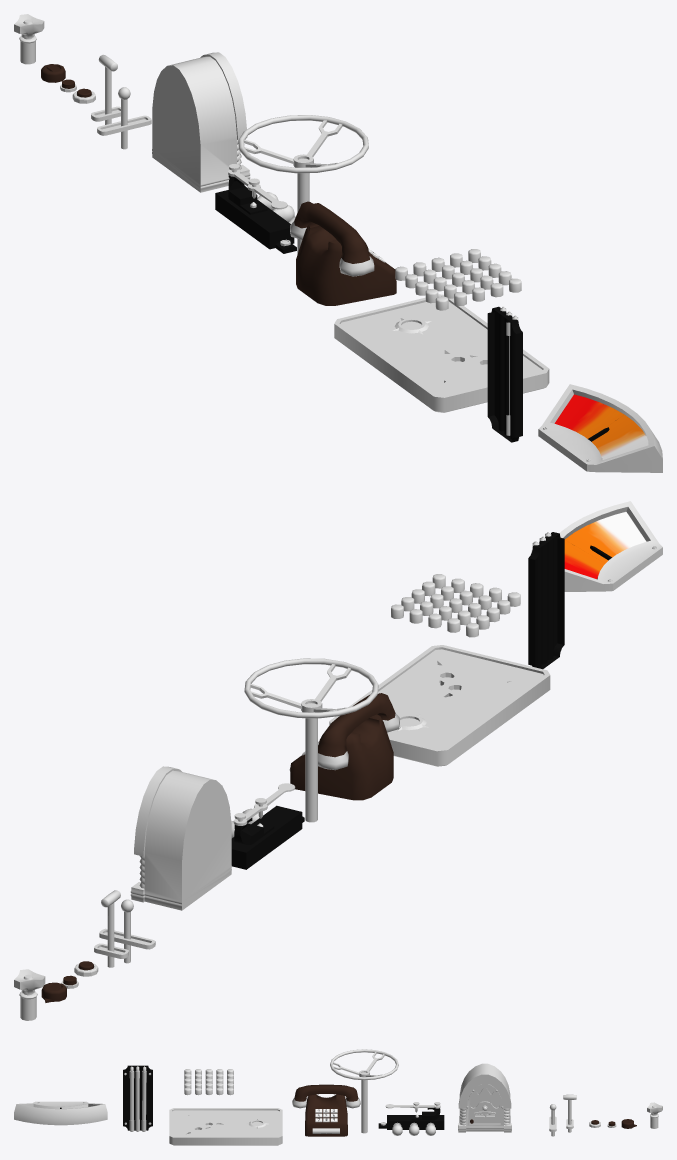
The model's file is cudliky_paky.fbx.
3 views of the same model, one above another, from view 1: azimuth 30°, elevation 25°; view 2: azimuth 150°, elevation 25°; view 3: azimuth 270°, elevation 25° (orthographic). The views are drawn at different scales.
Parts seen in each view (by area): view 1: Lmap, RadioSubstance, Plane.001, zkumavky, Tlakometr, morseovka1, Volant.001, heatlevel, morseovka2; view 2: Lmap, RadioSubstance, Plane.001, zkumavky, Volant.001, Tlakometr, heatlevel, morseovka1, morseovka2; view 3: Lmap, RadioSubstance, Plane.001, Tlakometr, zkumavky, Volant.001, morseovka1, cudliky.025, morseovka2, paka1.
Boxes of the visible parts, x1,y1,x2,y2 form: Lmap: (334, 294, 549, 412); RadioSubstance: (152, 52, 250, 192); Plane.001: (290, 201, 396, 305); zkumavky: (487, 306, 522, 442); Tlakometr: (538, 384, 662, 472); morseovka1: (215, 178, 296, 253); Volant.001: (238, 115, 368, 254); heatlevel: (554, 394, 648, 459); morseovka2: (228, 164, 287, 209); Lmap: (329, 645, 550, 766); RadioSubstance: (130, 766, 231, 910); Plane.001: (289, 693, 399, 800); zkumavky: (528, 532, 564, 669); Volant.001: (244, 658, 378, 822); Tlakometr: (559, 501, 662, 591); heatlevel: (564, 512, 646, 579); morseovka1: (231, 805, 304, 869); morseovka2: (233, 783, 295, 830); Lmap: (169, 1108, 282, 1145); RadioSubstance: (458, 1063, 511, 1132); Plane.001: (292, 1084, 360, 1136); Tlakometr: (14, 1101, 107, 1125); zkumavky: (123, 1065, 152, 1131); Volant.001: (330, 1049, 398, 1133); morseovka1: (378, 1110, 444, 1135); cudliky.025: (315, 1109, 337, 1122); morseovka2: (385, 1102, 440, 1112); paka1: (563, 1094, 576, 1132).
Bounding box in the file's own units: 6.71 × 0.7622 × 0.8261.
